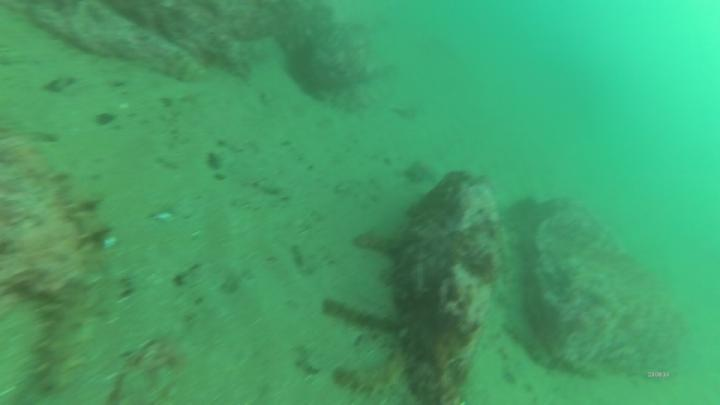holothurian: (67, 184, 117, 316), (35, 279, 92, 394), (335, 346, 411, 401)
starfish: (406, 159, 439, 187)
